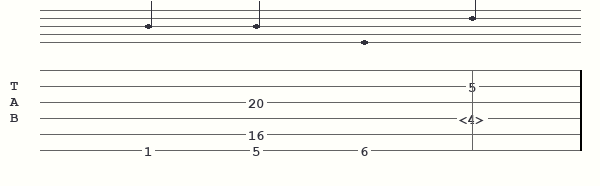1: (144, 144, 156, 157)
16: (248, 128, 268, 141)
20: (248, 96, 268, 109)
5: (252, 144, 264, 157), (468, 80, 480, 93)
6: (360, 144, 372, 157)
harmonic: (459, 112, 489, 125)
